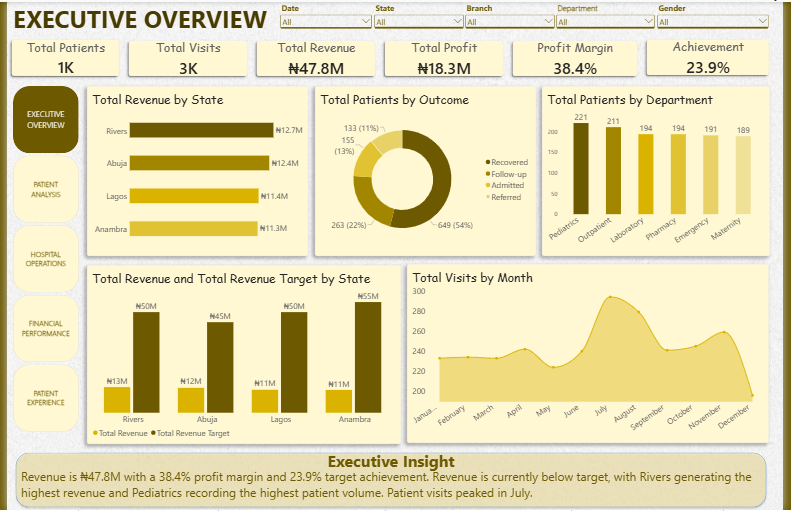

The dashboard page shown, as its layout file describes it:
{"tool":"powerbi","page":{"name":"EXECUTIVE OVERVIEW","canvas":[2600,1700],"ordinal":0},"visuals":[{"type":"textbox","box":[20.1,0,913.6,133.9],"z":0},{"type":"cardVisual","fields":{"Data":["Date_Table.Total Patients"]},"box":[0,110.4,391.5,153.9],"z":1000},{"type":"cardVisual","fields":{"Data":["Date_Table.Total Visits"]},"box":[391.5,113.8,428.3,150.6],"z":2000},{"type":"cardVisual","fields":{"Data":["Date_Table.Total Revenue"]},"box":[819.9,113.8,428.3,150.6],"z":3000},{"type":"cardVisual","fields":{"Data":["Date_Table.Total Profit"]},"box":[1248.2,113.8,428.3,150.6],"z":4000},{"type":"cardVisual","fields":{"Data":["Date_Table.Achievement"]},"box":[2125,110.4,441.7,150.6],"z":5000},{"type":"cardVisual","fields":{"Data":["Date_Table.Profit Margin"]},"box":[1676.6,113.8,448.4,150.6],"z":6000},{"type":"lineChart","fields":{"Category":["Date_Table.Month"],"Y":["Date_Table.Total Visits"]},"box":[1338.6,876.8,1211.4,599],"z":7000},{"type":"clusteredBarChart","fields":{"Category":["State_Targets.State"],"Y":["Date_Table.Total Revenue"]},"box":[267.7,281.1,739.6,568.9],"z":8000},{"type":"clusteredColumnChart","fields":{"Category":["Patient_Visits.Department"],"Y":["Date_Table.Total Patients"]},"box":[1790.4,281.1,763,568.9],"z":9000},{"type":"clusteredColumnChart","fields":{"Category":["State_Targets.State"],"Y":["Date_Table.Total Revenue","Date_Table.Total Revenue Target"]},"box":[267.7,880.1,1050.8,599],"z":10000},{"type":"donutChart","fields":{"Category":["Patient_Visits.Outcome"],"Y":["Date_Table.Total Patients"]},"box":[1030.7,281.1,739.6,568.9],"z":11000},{"type":"pageNavigator","box":[20.1,281.1,220.9,1161.2],"z":12000},{"type":"slicer","fields":{"Values":["Date_Table.Date"]},"box":[910.2,0,315.4,113.4],"z":13000},{"type":"slicer","fields":{"Values":["State_Targets.State"]},"box":[1224.8,0,307.9,123.8],"z":14000},{"type":"slicer","fields":{"Values":["Patient_Visits.Branch"]},"box":[1529.3,0,307.9,110.4],"z":15000},{"type":"slicer","fields":{"Values":["Patient_Visits.Department"]},"box":[1833.9,0,338,113.8],"z":16000},{"type":"slicer","fields":{"Values":["Patient_Visits.Gender"]},"box":[2171.9,0,381.5,110.4],"z":17000},{"type":"shape","box":[20.1,1499.2,2529.9,200.8],"z":18000},{"type":"textbox","box":[46.9,1559.4,2476.4,140.6],"z":19000},{"type":"textbox","box":[46.9,1499.2,2476.4,83.7],"z":19001}]}

Visuals, with their boxes in screenshot pixels (x1, y1, x2, y2), scaled from the page's 2600x1700 canvas onto the 791x511 screenshot:
textbox: [6,0,284,40]
cardVisual - Date_Table.Total Patients: [0,33,119,79]
cardVisual - Date_Table.Total Visits: [119,34,249,79]
cardVisual - Date_Table.Total Revenue: [249,34,380,79]
cardVisual - Date_Table.Total Profit: [380,34,510,79]
cardVisual - Date_Table.Achievement: [646,33,781,78]
cardVisual - Date_Table.Profit Margin: [510,34,646,79]
lineChart - Date_Table.Month x Date_Table.Total Visits: [407,264,776,444]
clusteredBarChart - State_Targets.State x Date_Table.Total Revenue: [81,84,306,256]
clusteredColumnChart - Patient_Visits.Department x Date_Table.Total Patients: [545,84,777,256]
clusteredColumnChart - State_Targets.State x Date_Table.Total Revenue: [81,265,401,445]
donutChart - Patient_Visits.Outcome x Date_Table.Total Patients: [314,84,539,256]
pageNavigator: [6,84,73,434]
slicer - Date_Table.Date: [277,0,373,34]
slicer - State_Targets.State: [373,0,466,37]
slicer - Patient_Visits.Branch: [465,0,559,33]
slicer - Patient_Visits.Department: [558,0,661,34]
slicer - Patient_Visits.Gender: [661,0,777,33]
shape: [6,451,776,510]
textbox: [14,469,768,510]
textbox: [14,451,768,476]
